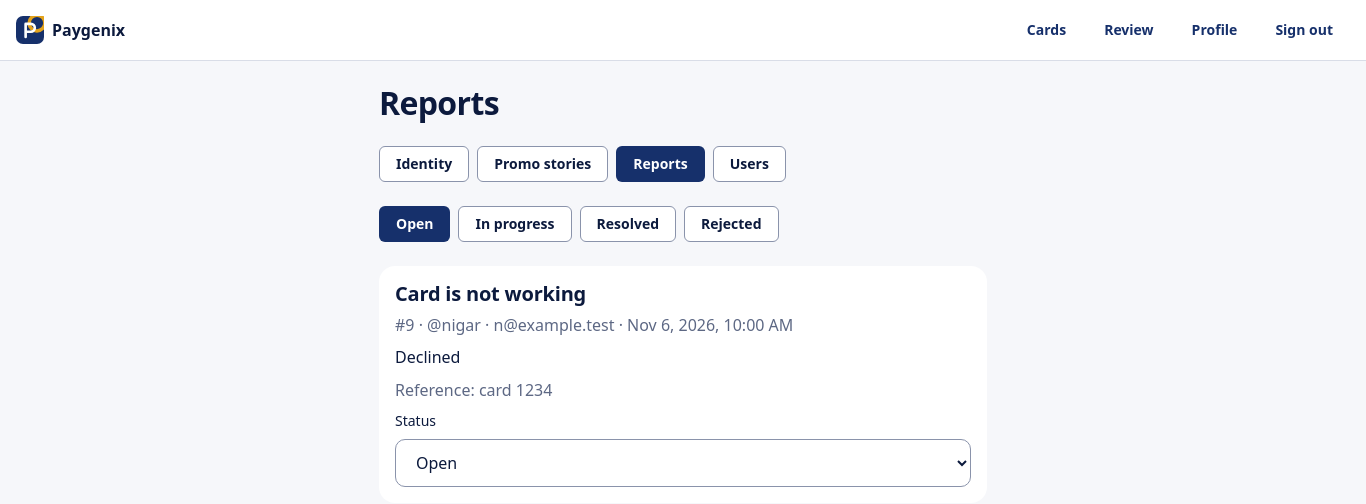
Test: a report moved to another status leaves the tab
Expected: the text "Declined" is shown, [395, 346, 460, 368]
Expected: the text "Reference: card 1234" is shown, [395, 379, 552, 401]
Step 1. Select "Resolved" in the dropdown labelled "Status" → (683, 463), box [396, 440, 970, 486]
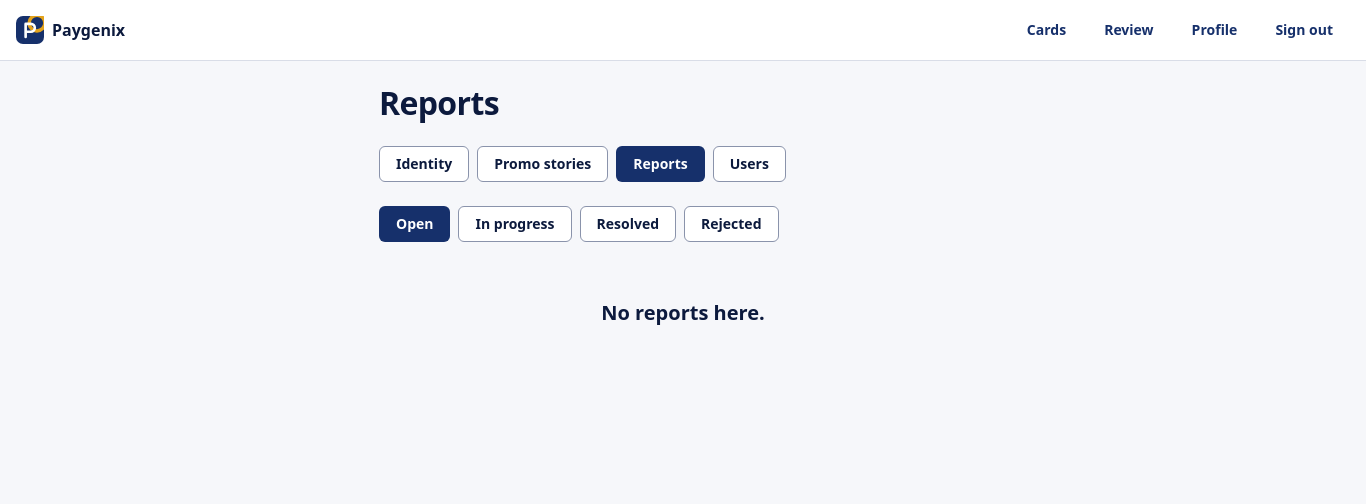
Expected: the text "No reports here." is shown, [601, 298, 765, 328]
